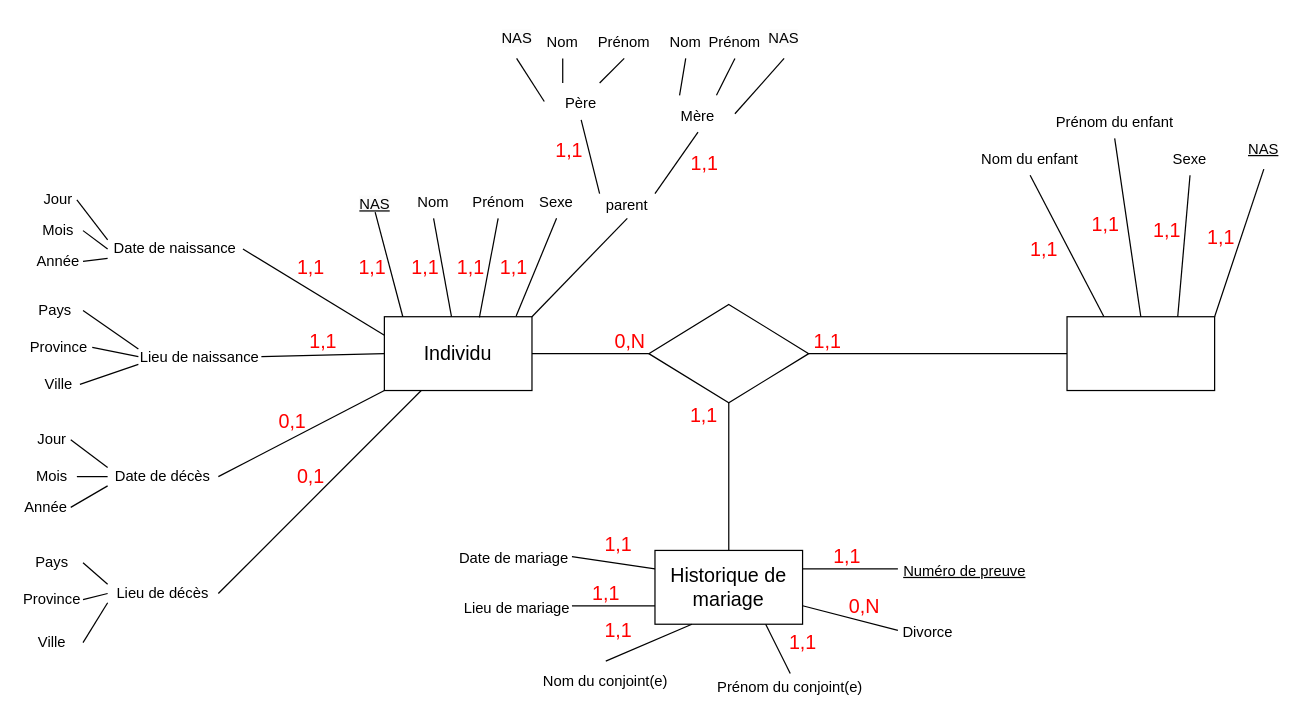
The diagram is 1309 pixels wide and 718 high, and some of its shapes have lost their labels. Here are the shapes that lost their labels. From the top down, the box of each, then its label:
(648, 303, 809, 403): Possède
(1066, 315, 1215, 391): Enfant
